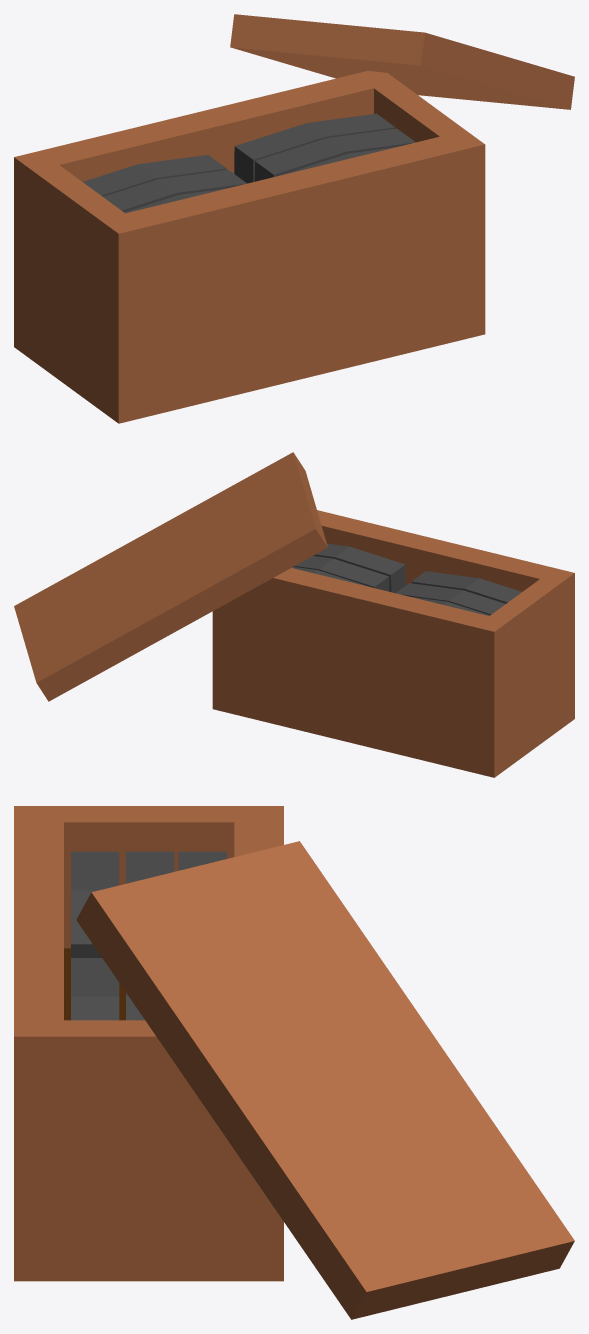
File: AmmoBox.fbx
The picture shows the model from 3 angles, top to bottom: view 1: azimuth 30°, elevation 25°; view 2: azimuth 150°, elevation 25°; view 3: azimuth 270°, elevation 25°; orthographic projection. The views are drawn at different scales.
Parts seen in each view (by area): view 1: Box, Ammo; view 2: Box, Ammo; view 3: Box, Ammo.
Part boxes in pixels (x1,y1,x2,y2): Box: (14, 14, 574, 423); Ammo: (83, 113, 415, 213); Box: (14, 452, 574, 777); Ammo: (292, 543, 521, 615); Box: (14, 806, 574, 1319); Ammo: (71, 851, 226, 1020).
Bounding box in the file's own units: 2.42 × 1.12 × 1.54.
